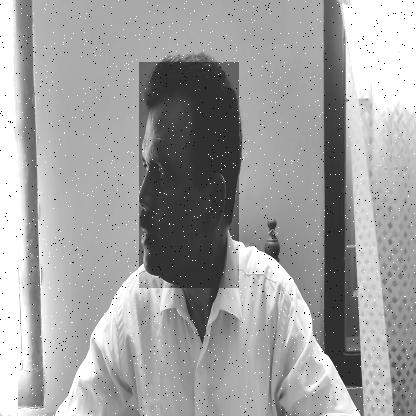Distracted: (140, 62, 240, 288)
